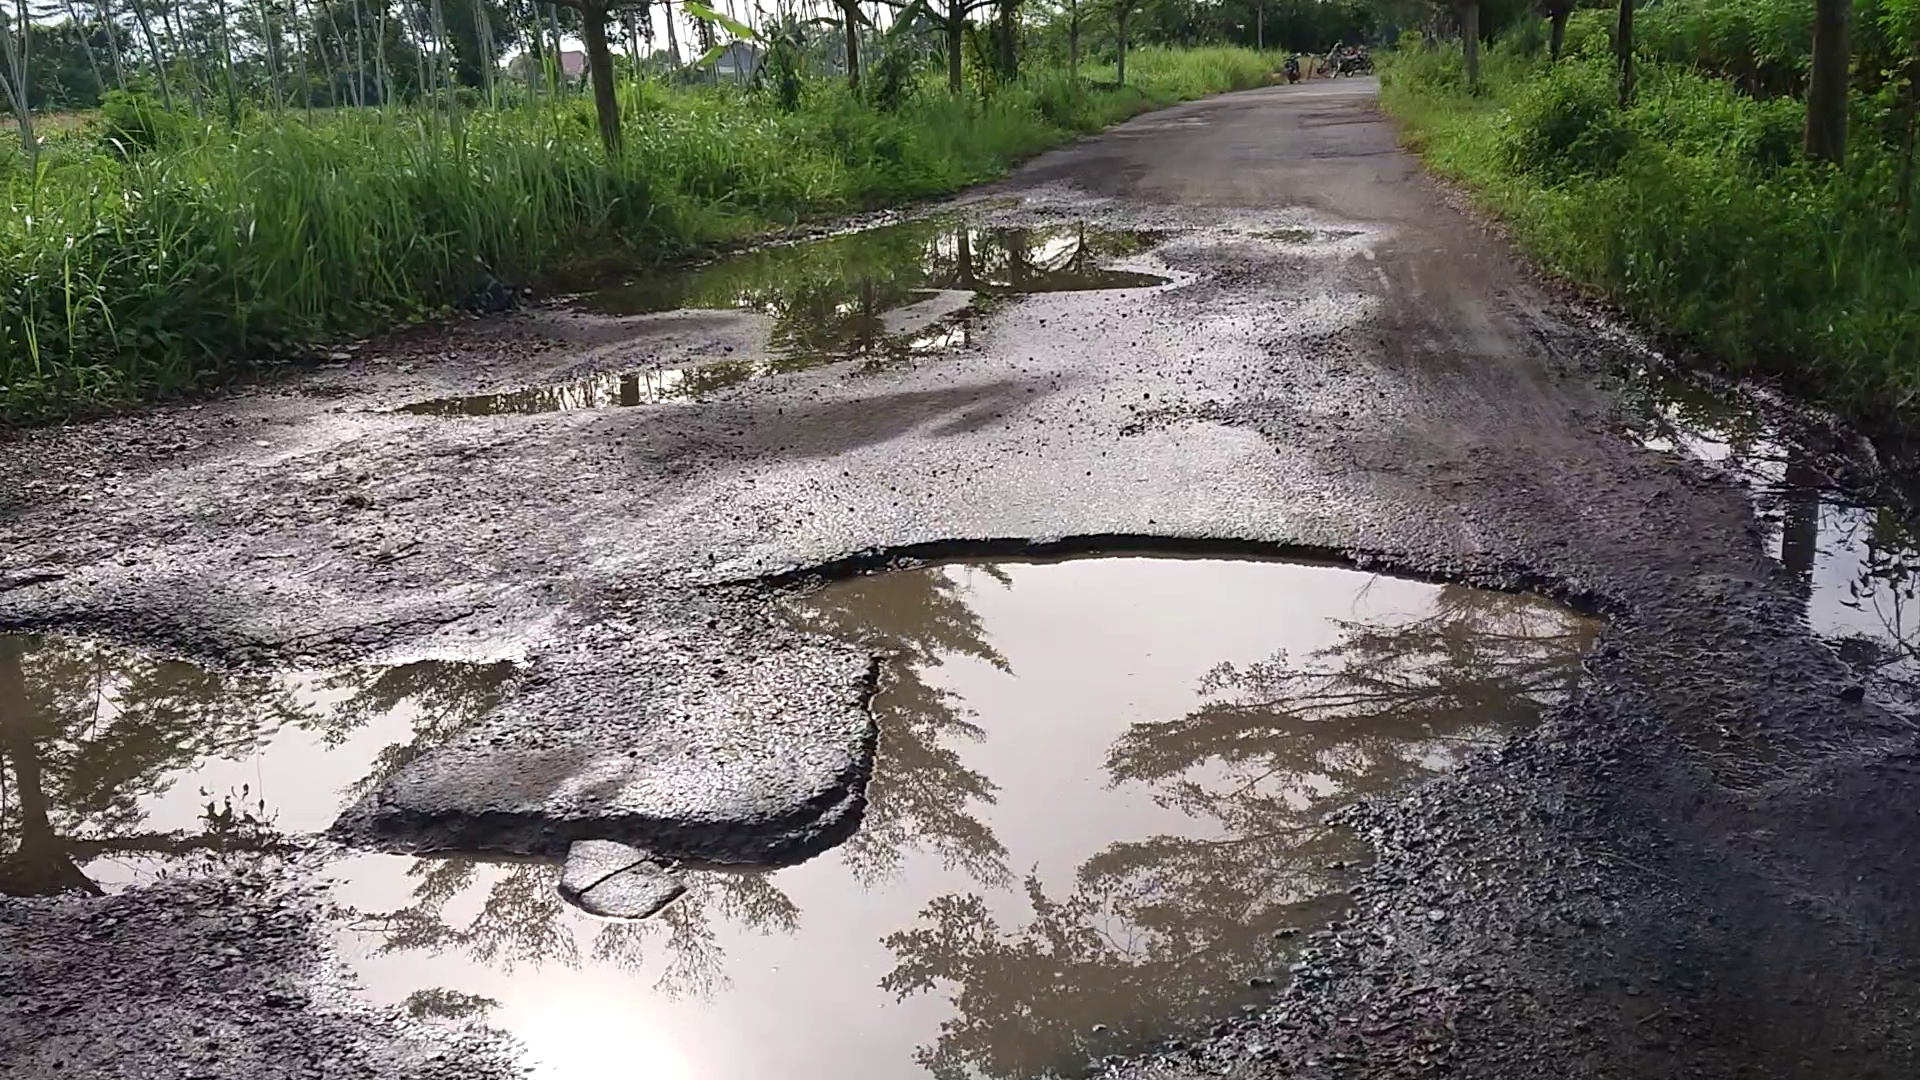Berlubang: (4, 567, 1621, 1080), (481, 195, 1201, 411)
